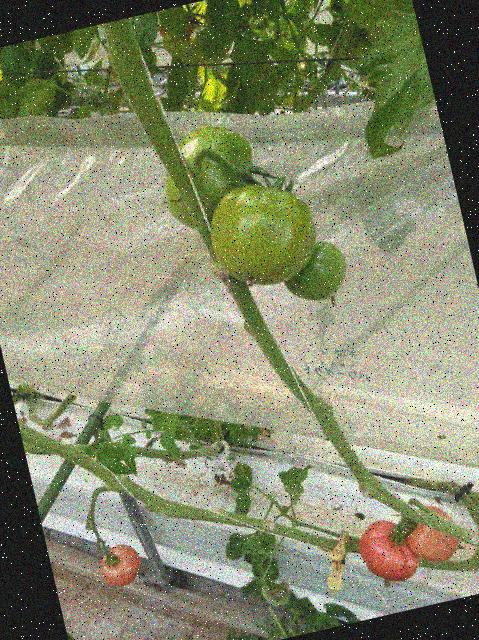b_fully_ripened: (352, 512, 424, 588)
b_green: (200, 172, 325, 296), (150, 117, 267, 241), (276, 236, 352, 308), (319, 9, 376, 73), (355, 0, 420, 49)
b_half_ripened: (400, 500, 463, 568), (94, 540, 144, 590)
